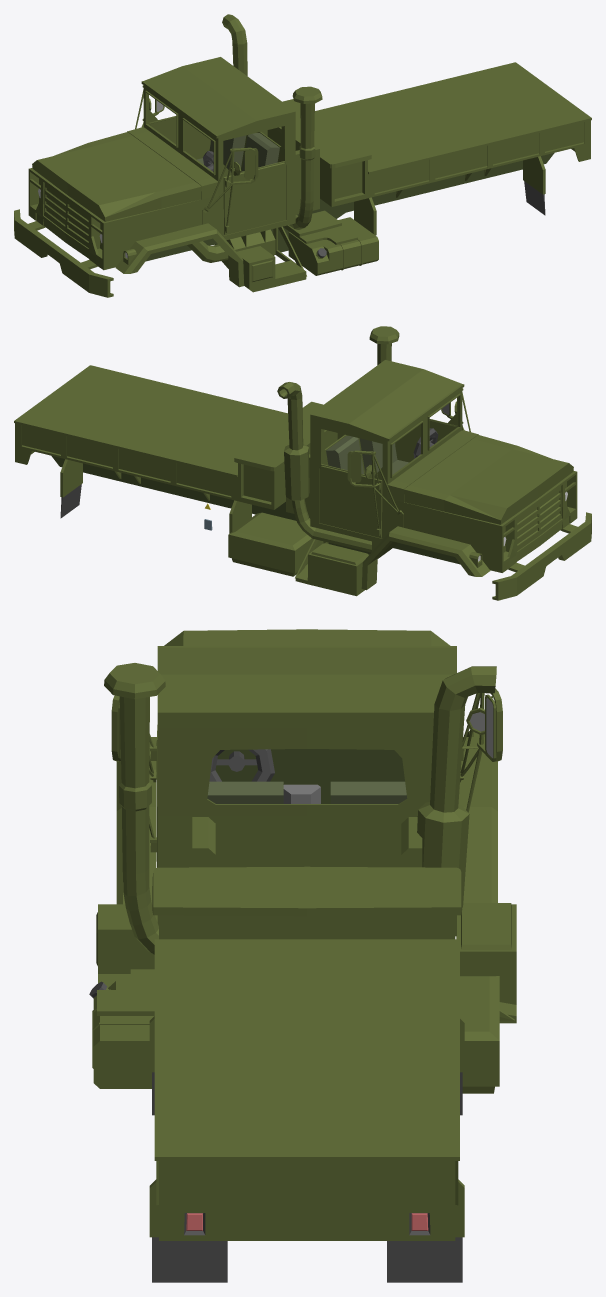
The model's file is unloadTruck.glb.
3 renders of one model, top to bottom at view 1: azimuth 30°, elevation 25°; view 2: azimuth 150°, elevation 25°; view 3: azimuth 270°, elevation 25°, orthographic. The views are drawn at different scales.
Parts seen in each view (by area): view 1: Main; view 2: Main; view 3: Main, steering_wheel.
Part boxes in pixels (box(x1,y1,x2,y2)): Main: box(14, 14, 591, 297); Main: box(14, 326, 591, 600); Main: box(89, 629, 516, 1282); steering_wheel: box(209, 749, 274, 781).
Size of the model in its own units: 7.24 by 2.69 by 2.67.
